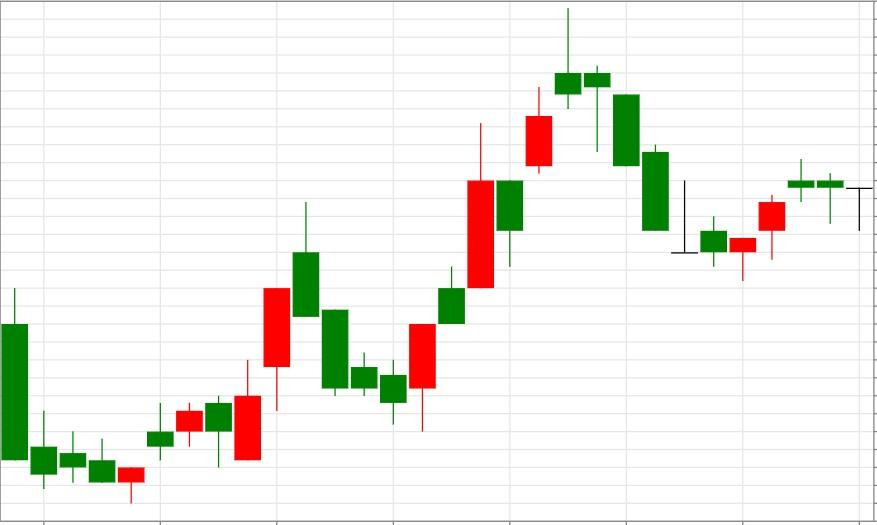shooting_star_fall: (379, 9, 583, 431)
